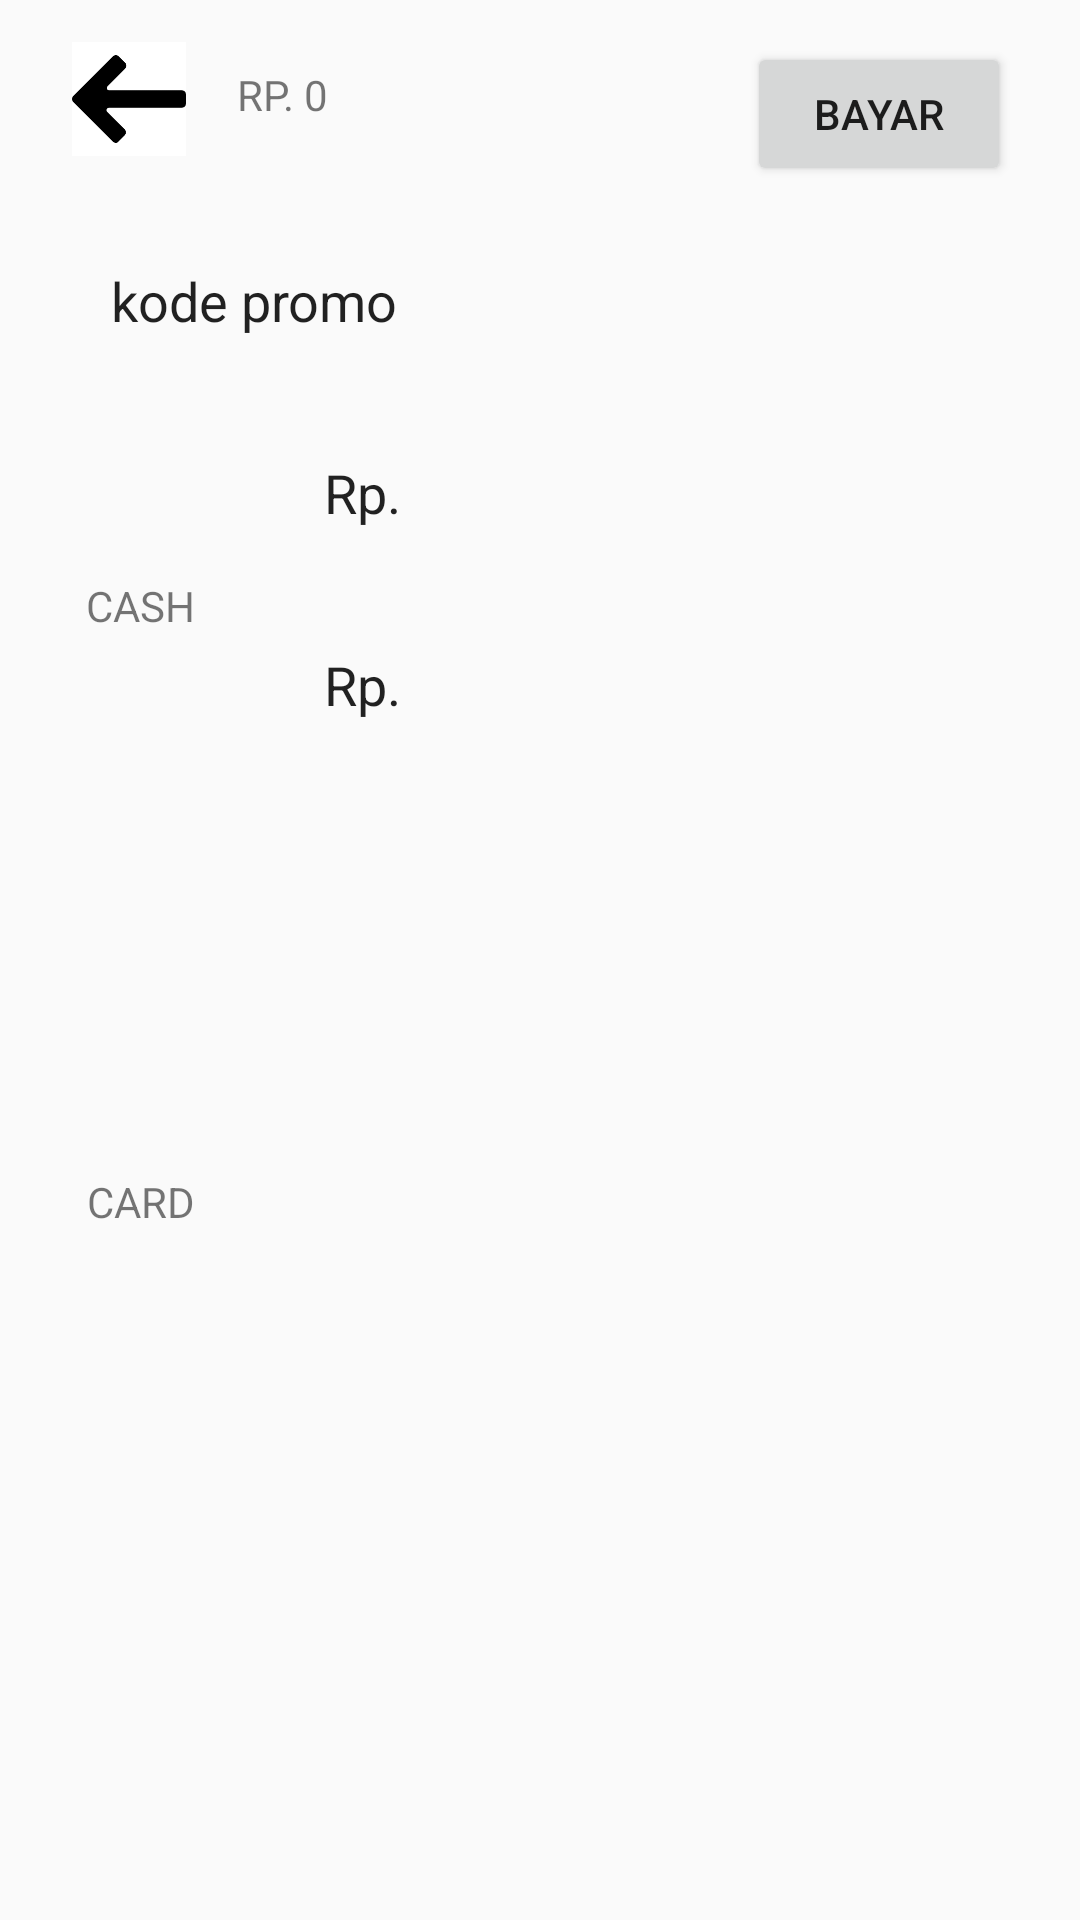

Locate icon controls on the screen. Image size 1080px x 1920px, boxes as (x1, y1, x2, y2).
back: (72, 55, 186, 143)
